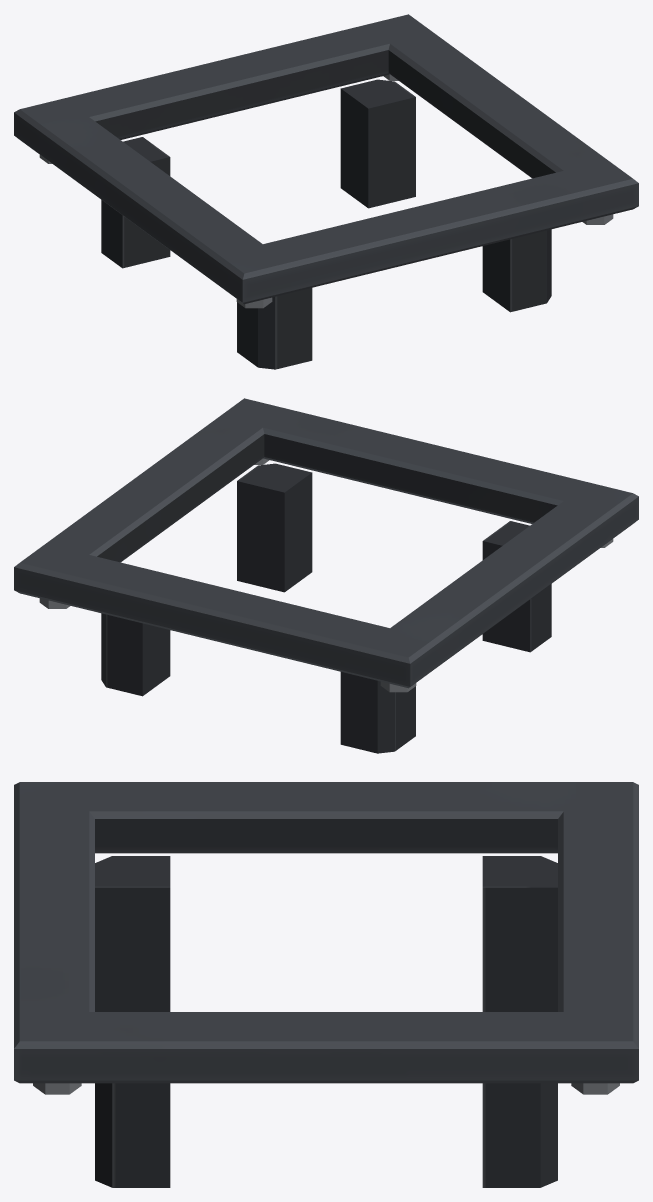
Rendered from arm_pipe_down.obj.
3 renders of one model, top to bottom at view 1: azimuth 30°, elevation 25°; view 2: azimuth 150°, elevation 25°; view 3: azimuth 270°, elevation 25°, orthographic. The views are drawn at different scales.
Visible parts, largest first — view 1: arm_pipe_flange, arm_pipe_rails, arm_pipe_flange_nuts; view 2: arm_pipe_flange, arm_pipe_rails, arm_pipe_flange_nuts; view 3: arm_pipe_flange, arm_pipe_rails, arm_pipe_flange_nuts.
Boxes of the visible parts, x1,y1,x2,y2 form: arm_pipe_flange: [14, 14, 638, 304]; arm_pipe_rails: [101, 79, 551, 369]; arm_pipe_flange_nuts: [39, 74, 613, 308]; arm_pipe_flange: [14, 398, 638, 688]; arm_pipe_rails: [101, 463, 551, 753]; arm_pipe_flange_nuts: [39, 458, 613, 692]; arm_pipe_flange: [14, 782, 638, 1083]; arm_pipe_rails: [95, 856, 557, 1187]; arm_pipe_flange_nuts: [33, 1083, 619, 1094].
Bounding box in the file's own units: 0.675 × 0.2125 × 0.675.
